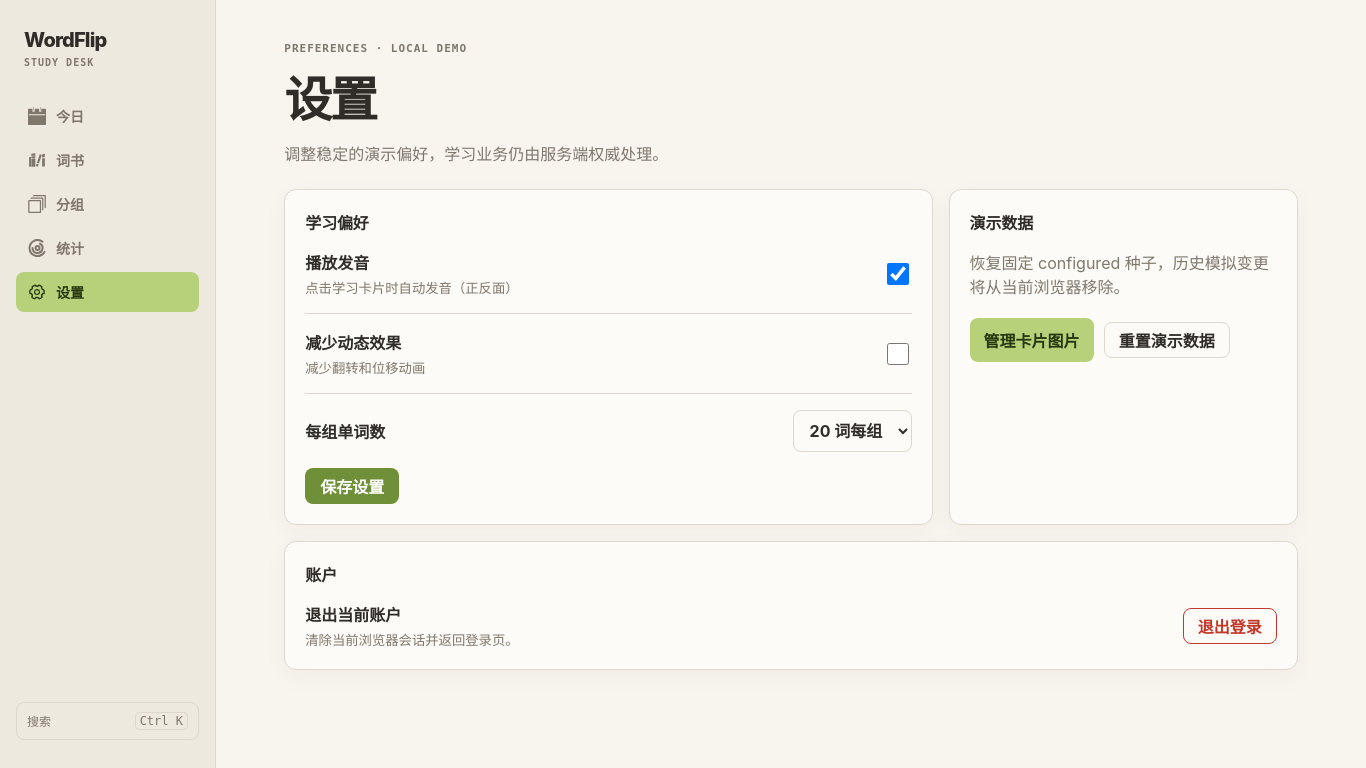
Test: 设置 › 保存固定设置快照并持久化，不出现全局词典切换
Click the checkbox labelled "播放发音" at (898, 274), box [887,262,909,284]
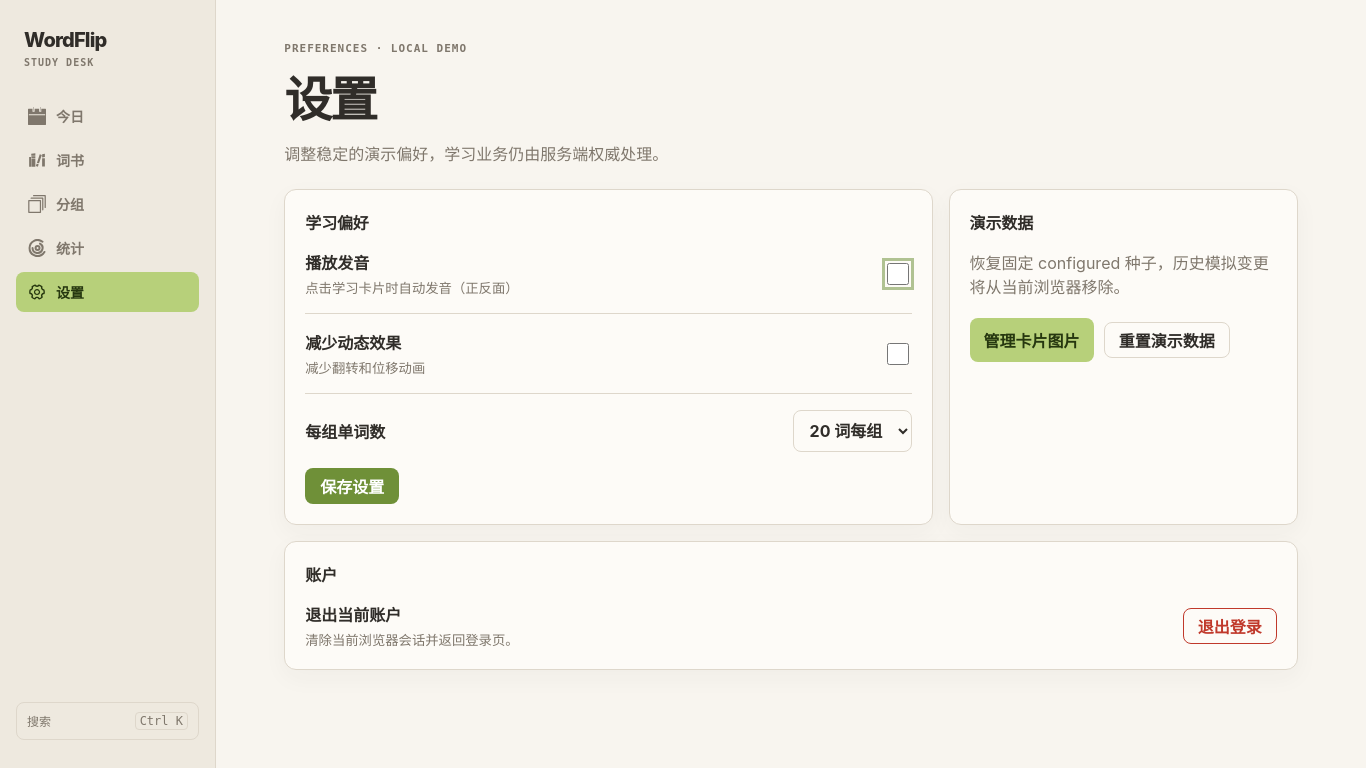
Click the checkbox labelled "减少动态效果" at (898, 354), box [887,342,909,364]
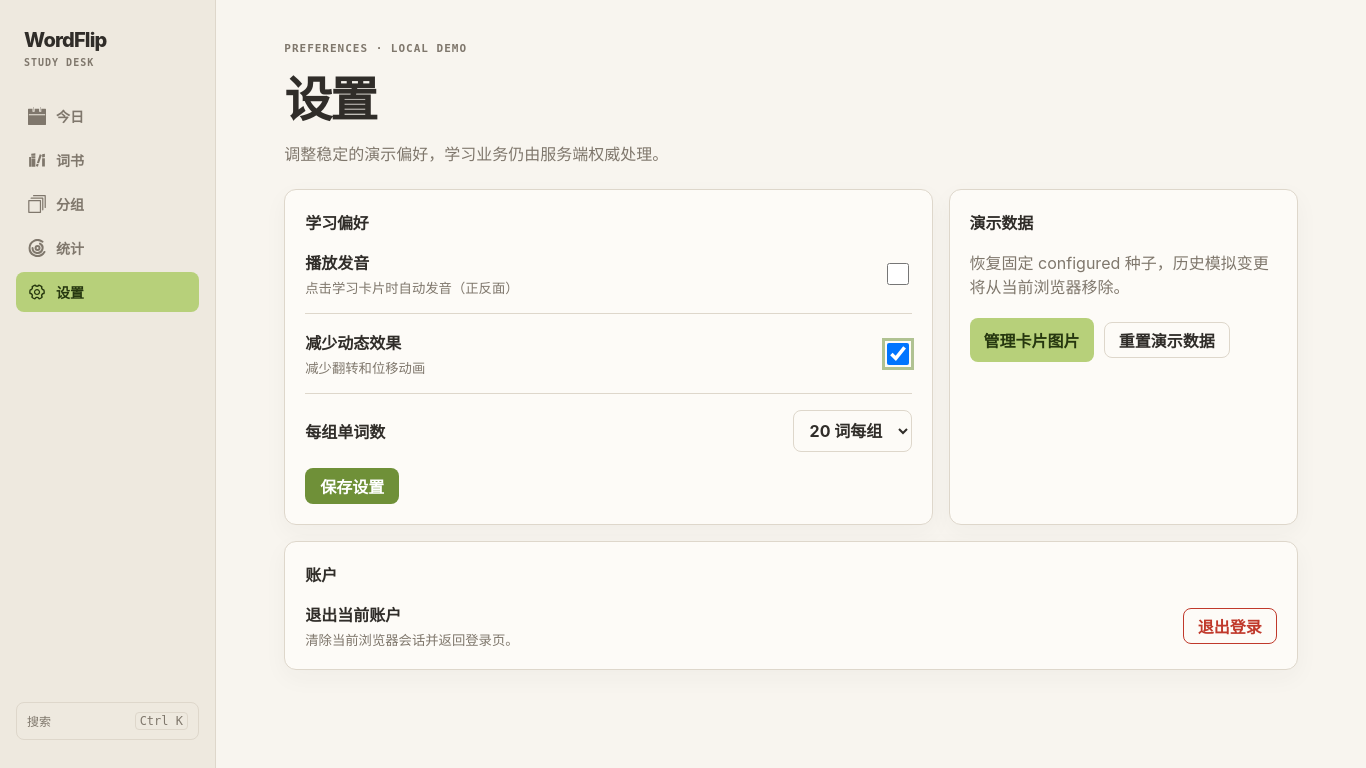
Select "30 词每组" in the dropdown labelled "每组单词数" at (852, 431), box [793,410,912,452]
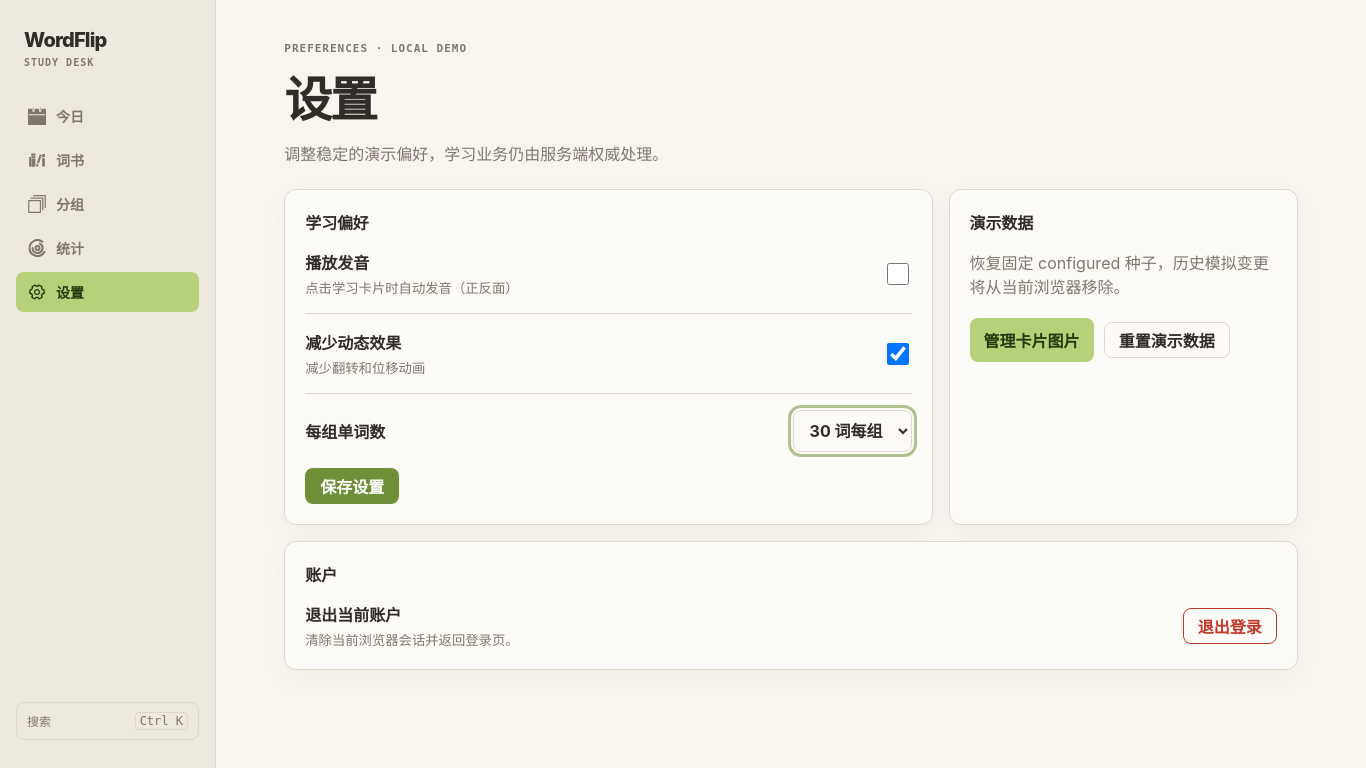
Click the button "保存设置" at (352, 486), box [305,468,399,504]
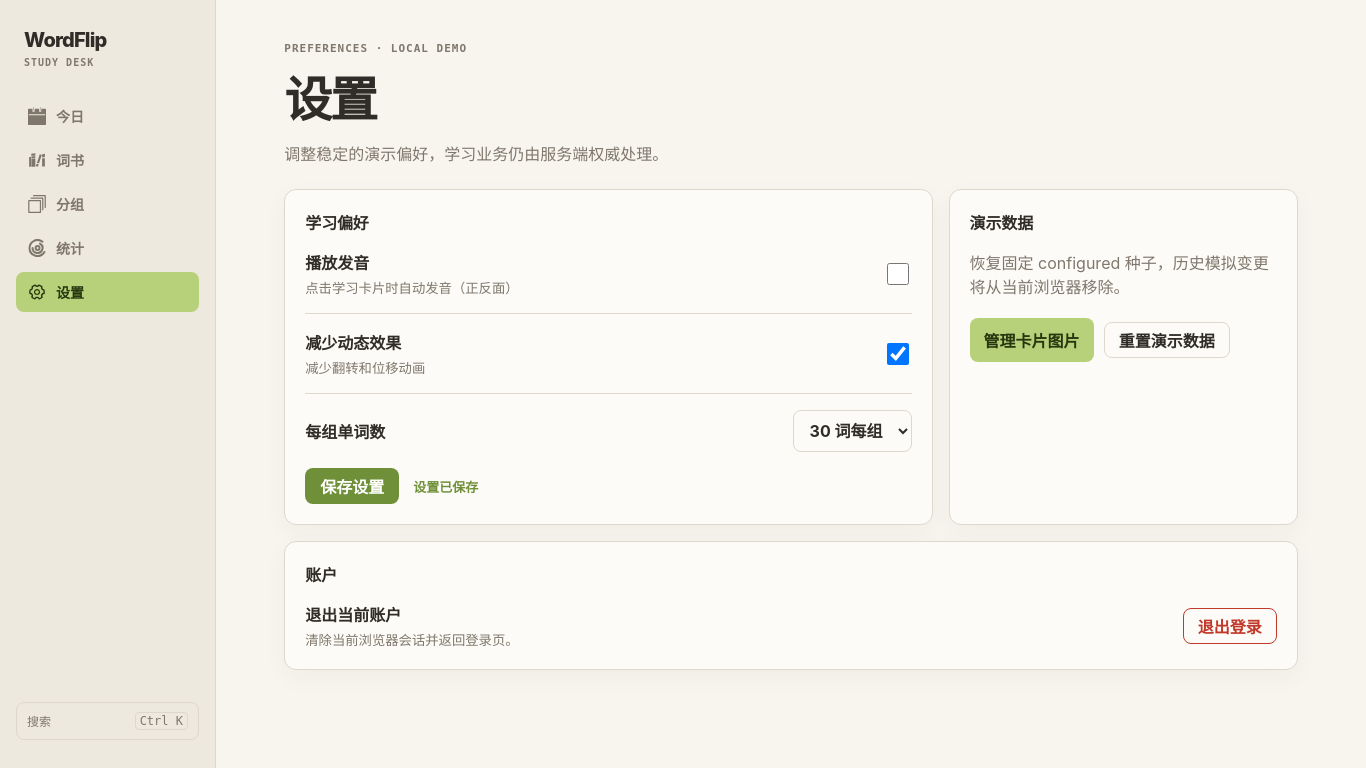
Result: the message reads "设置已保存" at [413,478,478,494]
